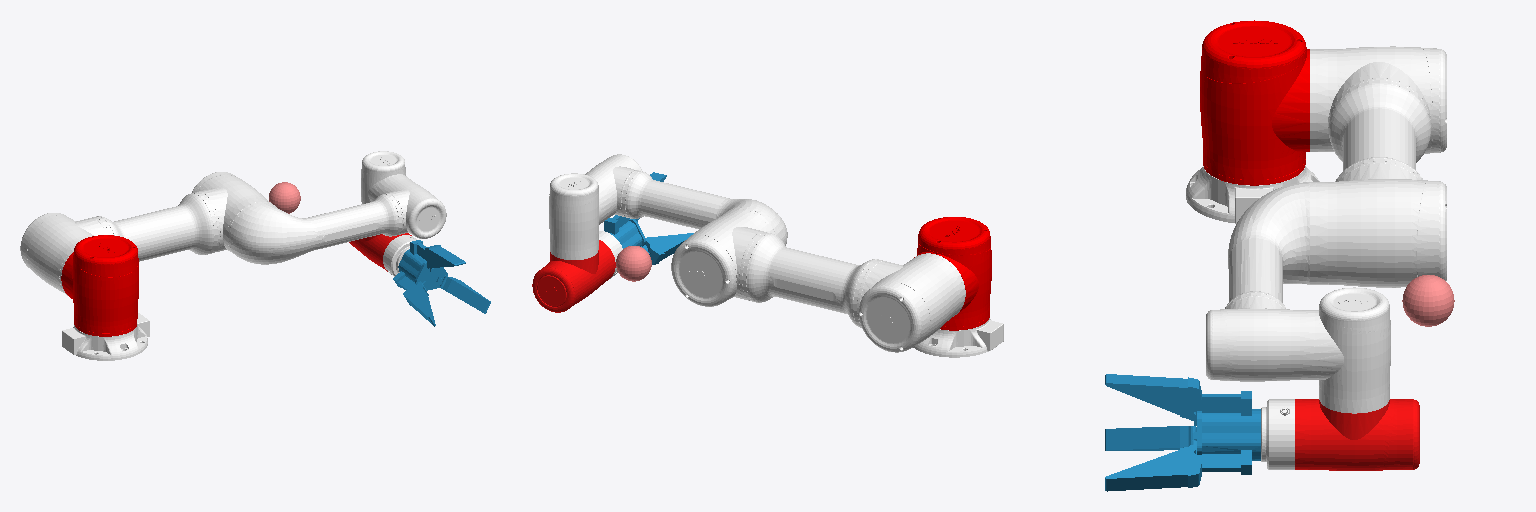
URDF robot description (single):
<?xml version="1.0" ?>
<!-- =================================================================================== -->
<!-- |    This document was autogenerated by xacro from ./jaka_zu7_v2_grasp.xacro      | -->
<!-- |    EDITING THIS FILE BY HAND IS NOT RECOMMENDED                                 | -->
<!-- =================================================================================== -->
<robot name="single">
  <link name="base_link">
    <inertial>
      <origin rpy="0 0 0" xyz="0.000965034909848577 0.0195530292148323 -7.27080869111029E-08"/>
      <mass value="0.514609969031532"/>
      <inertia ixx="0.000621364399247646" ixy="3.21692650554867E-06" ixz="-3.71184934823013E-09" iyy="0.0013529358522947" iyz="3.8977685173265E-11" izz="0.00086645249213919"/>
    </inertial>
    <visual>
      <origin rpy="0 0 0" xyz="0 0 0"/>
      <geometry>
        <mesh filename="package://jaka_zu7_v2/meshes/base_link.STL"/>
      </geometry>
      <material name="">
        <color rgba="1 1 1 1"/>
      </material>
    </visual>
    <collision>
      <origin rpy="0 0 0" xyz="0 0 0"/>
      <geometry>
        <mesh filename="package://jaka_zu7_v2/meshes/base_link.STL"/>
      </geometry>
    </collision>
  </link>
  <link name="link_1">
    <inertial>
      <origin rpy="0 0 0" xyz="0.00332253130665769 0.0786385509598458 5.2958727998931E-08"/>
      <mass value="1.92821258656447"/>
      <inertia ixx="0.00548947482538057" ixy="1.93161087253844E-06" ixz="-2.06406149519604E-08" iyy="0.00388876051174381" iyz="-1.29468636322429E-08" izz="0.00564332197967477"/>
    </inertial>
    <visual>
      <origin rpy="0 0 0" xyz="0 0 0"/>
      <geometry>
        <mesh filename="package://jaka_zu7_v2/meshes/link_1.STL"/>
      </geometry>
      <material name="">
        <color rgba="1 0 0 1"/>
      </material>
    </visual>
    <collision>
      <origin rpy="0 0 0" xyz="0 0 0"/>
      <geometry>
        <mesh filename="package://jaka_zu7_v2/meshes/link_1.STL"/>
      </geometry>
    </collision>
  </link>
  <joint name="joint_1" type="revolute">
    <origin rpy="1.5707963267949 0 1.5707963267949" xyz="0 0 0.04"/>
    <parent link="base_link"/>
    <child link="link_1"/>
    <axis xyz="0 1 0"/>
    <limit effort="0" lower="-4.963716393" upper="4.963716393" velocity="3.14"/>
  </joint>
  <link name="link_2">
    <inertial>
      <origin rpy="0 0 0" xyz="0.179999937405946 0.0790752745504925 9.75081933252131E-09"/>
      <mass value="5.46179073513085"/>
      <inertia ixx="0.0129179479280493" ixy="-2.71044464180044E-08" ixz="-1.50487643543411E-08" iyy="0.138149394009534" iyz="-2.73361042997731E-09" izz="0.141659548589032"/>
    </inertial>
    <visual>
      <origin rpy="0 0 0" xyz="0 0 0"/>
      <geometry>
        <mesh filename="package://jaka_zu7_v2/meshes/link_2.STL"/>
      </geometry>
      <material name="">
        <color rgba="1 1 1 1"/>
      </material>
    </visual>
    <collision>
      <origin rpy="0 0 0" xyz="0 0 0"/>
      <geometry>
        <mesh filename="package://jaka_zu7_v2/meshes/link_2.STL"/>
      </geometry>
    </collision>
  </link>
  <joint name="joint_2" type="revolute">
    <origin rpy="-1.5707963267949 -1.5707963267949 0" xyz="0.064 0.0801499805565675 0"/>
    <parent link="link_1"/>
    <child link="link_2"/>
    <axis xyz="0 -1 0"/>
    <limit effort="0" lower="-1.171988593" upper="3.653846789" velocity="3.14"/>
  </joint>
  <link name="link_3">
    <inertial>
      <origin rpy="0 0 0" xyz="0.155128159726302 0.0514243418134301 -2.21667684600496E-05"/>
      <mass value="2.10988248004298"/>
      <inertia ixx="0.00267097214313929" ixy="-0.00234320623456127" ixz="2.68932154375193E-07" iyy="0.0354758560218789" iyz="-5.66886998256416E-09" izz="0.0361345568869166"/>
    </inertial>
    <visual>
      <origin rpy="0 0 0" xyz="0 0 0"/>
      <geometry>
        <mesh filename="package://jaka_zu7_v2/meshes/link_3.STL"/>
      </geometry>
      <material name="">
        <color rgba="1 1 1 1"/>
      </material>
    </visual>
    <collision>
      <origin rpy="0 0 0" xyz="0 0 0"/>
      <geometry>
        <mesh filename="package://jaka_zu7_v2/meshes/link_3.STL"/>
      </geometry>
    </collision>
  </link>
  <joint name="joint_3" type="revolute">
    <origin rpy="3.14159265358979 0 0" xyz="0.36 0 0"/>
    <parent link="link_2"/>
    <child link="link_3"/>
    <axis xyz="0 1 0"/>
    <limit effort="0" lower="-2.412917691" upper="2.412917691" velocity="3.14"/>
  </joint>
  <link name="link_4">
    <inertial>
      <origin rpy="0 0 0" xyz="0.0428277143121445 -0.00580000262750839 -2.15426459782009E-07"/>
      <mass value="0.707389472258975"/>
      <inertia ixx="0.00114244205941306" ixy="1.06377457242975E-05" ixz="-1.00655969113403E-08" iyy="0.000665673392092465" iyz="4.52474533922176E-09" izz="0.00117908344473012"/>
    </inertial>
    <visual>
      <origin rpy="0 0 0" xyz="0 0 0"/>
      <geometry>
        <mesh filename="package://jaka_zu7_v2/meshes/link_4.STL"/>
      </geometry>
      <material name="">
        <color rgba="1 1 1 1"/>
      </material>
    </visual>
    <collision>
      <origin rpy="0 0 0" xyz="0 0 0"/>
      <geometry>
        <mesh filename="package://jaka_zu7_v2/meshes/link_4.STL"/>
      </geometry>
    </collision>
  </link>
  <joint name="joint_4" type="revolute">
    <origin rpy="-1.5707963267949 0 -1.5707963267949" xyz="0.3035 -0.00551249887704253 0"/>
    <parent link="link_3"/>
    <child link="link_4"/>
    <axis xyz="-1 0 0"/>
    <limit effort="0" lower="-1.171988593" upper="3.653846789" velocity="3.14"/>
  </joint>
  <link name="link_5">
    <inertial>
      <origin rpy="0 0 0" xyz="-0.0431572815381937 0.00288955773134447 1.49710568941863E-07"/>
      <mass value="0.806937512326124"/>
      <inertia ixx="0.0016178075971003" ixy="5.79122309605624E-06" ixz="-2.27237716815389E-08" iyy="0.000744722110552353" iyz="6.4924718539349E-10" izz="0.00165512070235347"/>
    </inertial>
    <visual>
      <origin rpy="0 0 0" xyz="0 0 0"/>
      <geometry>
        <mesh filename="package://jaka_zu7_v2/meshes/link_5.STL"/>
      </geometry>
      <material name="">
        <color rgba="1 0.1 0.1 1"/>
      </material>
    </visual>
    <collision>
      <origin rpy="0 0 0" xyz="0 0 0"/>
      <geometry>
        <mesh filename="package://jaka_zu7_v2/meshes/link_5.STL"/>
      </geometry>
    </collision>
  </link>
  <joint name="joint_5" type="revolute">
    <origin rpy="3.141592653589793 0 1.5707963267949" xyz="0.0455 -0.068 0"/>
    <parent link="link_4"/>
    <child link="link_5"/>
    <axis xyz="-1 0 0"/>
    <limit effort="0" lower="-4.963716393" upper="4.963716393" velocity="3.14"/>
  </joint>
  <link name="link_6">
    <inertial>
      <origin rpy="-1.5707963267948966 0 0" xyz="-1.97890204940432E-05 -0.0177548861304407 2.35655774806776E-05"/>
      <mass value="0.180494479521819"/>
      <inertia ixx="9.15750415659571E-05" ixy="-3.15858980075031E-08" ixz="1.86044178570153E-07" iyy="0.000144413544278706" iyz="1.29636476465431E-07" izz="9.21528525921217E-05"/>
    </inertial>
    <visual>
      <origin rpy="-1.5707963267948966 0 0" xyz="0 0 0"/>
      <geometry>
        <mesh filename="package://jaka_zu7_v2/meshes/link_6.STL"/>
      </geometry>
      <material name="">
        <color rgba="1 1 1 1"/>
      </material>
    </visual>
    <collision>
      <origin rpy="-1.5707963267948966 0 0" xyz="0 0 0"/>
      <geometry>
        <mesh filename="package://jaka_zu7_v2/meshes/link_6.STL"/>
      </geometry>
    </collision>
  </link>
  <joint name="joint_6" type="revolute">
    <origin rpy="1.5707963267948966 1.5707963267948966 0" xyz="-0.0455 -0.068 0"/>
    <parent link="link_5"/>
    <child link="link_6"/>
    <axis xyz="0 0 1"/>
    <limit effort="0" lower="-4.963716393" upper="4.963716393" velocity="3.14"/>
  </joint>
  <material name="gripper_color">
    <color rgba="0.2 0.6 0.8 0.75"/>
  </material>
  <material name="obj_color">
    <color rgba="1.0 0.6 0.6 1.0"/>
  </material>
  <link name="gripper_base_link">
    <visual>
      <geometry>
        <mesh filename="package://jaka_zu7_v2/meshes/gripper-raw.STL"/>
      </geometry>
      <material name="gripper_color"/>
    </visual>
    <collision>
      <geometry>
        <mesh filename="package://jaka_zu7_v2/meshes/gripper-raw.STL"/>
      </geometry>
    </collision>
  </link>
  <joint name="ee_joint" type="fixed">
    <parent link="link_6"/>
    <child link="gripper_base_link"/>
    <origin rpy="0 0 0" xyz="0 0 0.039"/>
  </joint>
  <link name="obj">
    <visual>
      <geometry>
        <sphere radius="0.03"/>
      </geometry>
      <material name="obj_color"/>
    </visual>
    <collision>
      <geometry>
        <sphere radius="0.03"/>
      </geometry>
    </collision>
  </link>
  <link name="dummy"/>
  <joint name="dummy_joint" type="fixed">
    <parent link="dummy"/>
    <child link="base_link"/>
  </joint>
  <joint name="obj_to_base" type="fixed">
    <parent link="base_link"/>
    <child link="obj"/>
    <origin rpy="0 0 0" xyz="0.5 0.2 0.1"/>
  </joint>
</robot>

--- Render facts (derived) ---
3 views of the same robot in one strip: view 1: azimuth 30°, elevation 25°; view 2: azimuth 150°, elevation 25°; view 3: azimuth 270°, elevation 25° (orthographic).
Robot: single — 10 links, 9 joints (6 revolute, 3 fixed); root link dummy; default pose: all joints at 0.
Links seen in each view (by area): view 1: link_2, link_3, link_1, gripper_base_link, base_link, link_4, link_5, obj, link_6; view 2: link_2, link_3, link_1, link_4, link_5, base_link, gripper_base_link, obj; view 3: link_2, link_1, link_3, gripper_base_link, link_4, link_5, base_link, link_6, obj.
Link boxes in pixels (x1,y1,x2,y2): link_2: [20, 172, 271, 295]; link_3: [229, 175, 446, 264]; link_1: [61, 235, 138, 336]; gripper_base_link: [393, 240, 490, 326]; base_link: [62, 313, 149, 360]; link_4: [361, 151, 406, 203]; link_5: [349, 233, 411, 271]; obj: [269, 182, 300, 213]; link_6: [383, 235, 424, 276]; link_2: [671, 208, 965, 352]; link_3: [585, 154, 787, 245]; link_1: [914, 217, 991, 330]; link_4: [549, 173, 608, 259]; link_5: [532, 240, 615, 312]; base_link: [913, 318, 1003, 357]; gripper_base_link: [604, 172, 693, 264]; obj: [616, 246, 651, 281]; link_2: [1310, 46, 1446, 287]; link_1: [1200, 20, 1309, 185]; link_3: [1206, 182, 1314, 381]; gripper_base_link: [1105, 374, 1260, 491]; link_4: [1315, 287, 1390, 413]; link_5: [1295, 399, 1419, 470]; base_link: [1186, 165, 1319, 223]; link_6: [1261, 399, 1294, 469]; obj: [1402, 275, 1454, 326].
Bounding box of the posed robot: 0.8133 × 0.4011 × 0.2373 m (x, y, z).
8 mesh visuals loaded from 8 distinct referenced files (8 binary STL).
